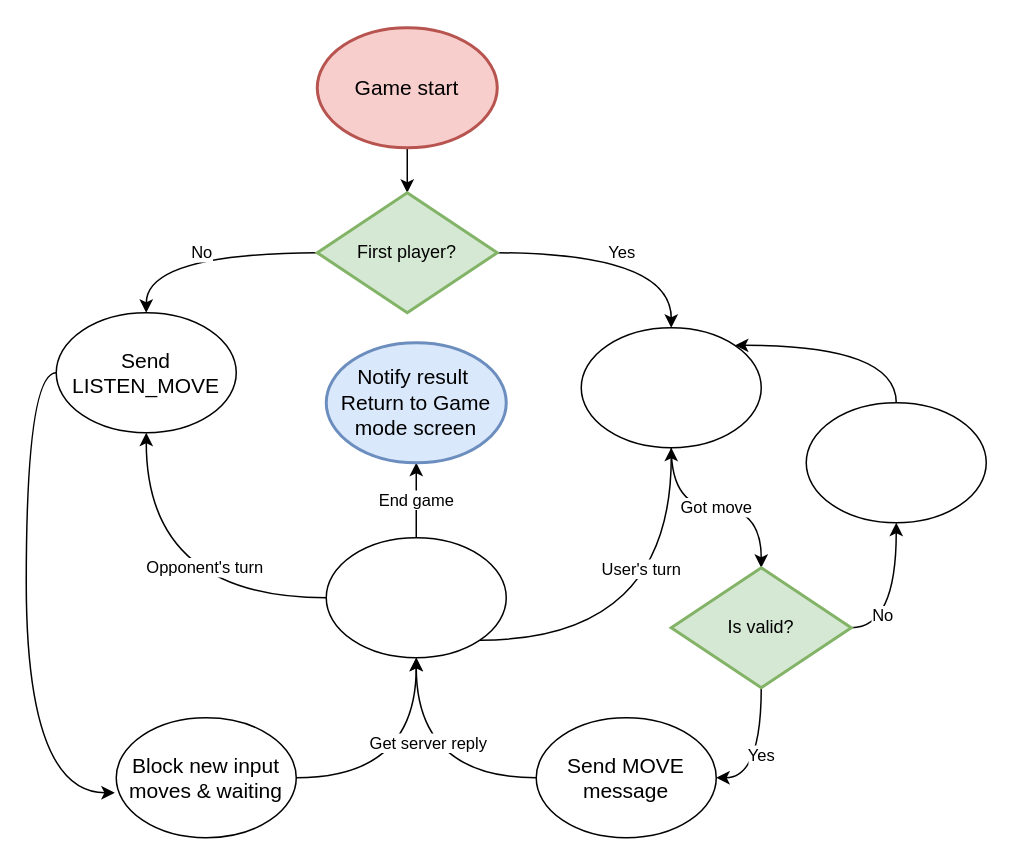
This 1013x864 diagram has some shape labels left out. Each missing label, with the centre of its shape:
"Notify" belongs at [895,462].
"Parse information & display" belongs at [415,597].
"Waiting for user input moves" belongs at [670,387].
